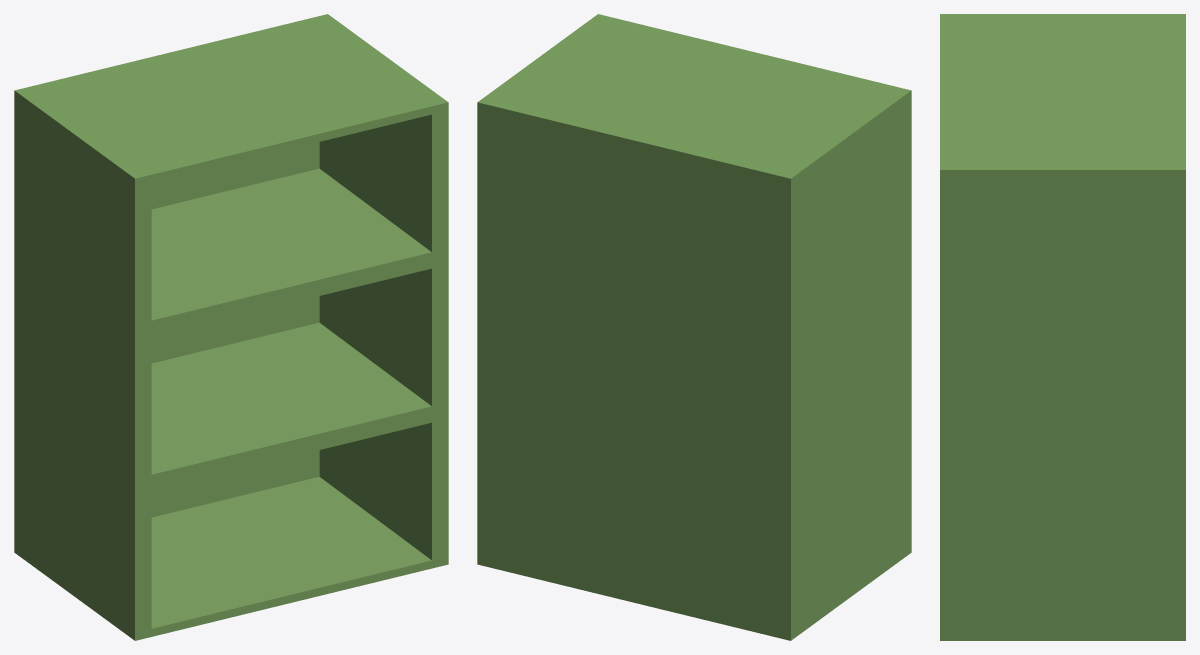
Rendered from LemariHijau.fbx.
The picture shows the model from 3 angles, left to right: view 1: azimuth 30°, elevation 25°; view 2: azimuth 150°, elevation 25°; view 3: azimuth 270°, elevation 25°; orthographic projection.
Visible parts, largest first — view 1: LemariPotTanaman.002; view 2: LemariPotTanaman.002; view 3: LemariPotTanaman.002.
Boxes of the visible parts, box(x1,y1,x2,y2) form: LemariPotTanaman.002: box(14, 14, 448, 640); LemariPotTanaman.002: box(477, 14, 911, 640); LemariPotTanaman.002: box(940, 14, 1185, 640).
Bounding box in the file's own units: 164 × 231 × 109.
